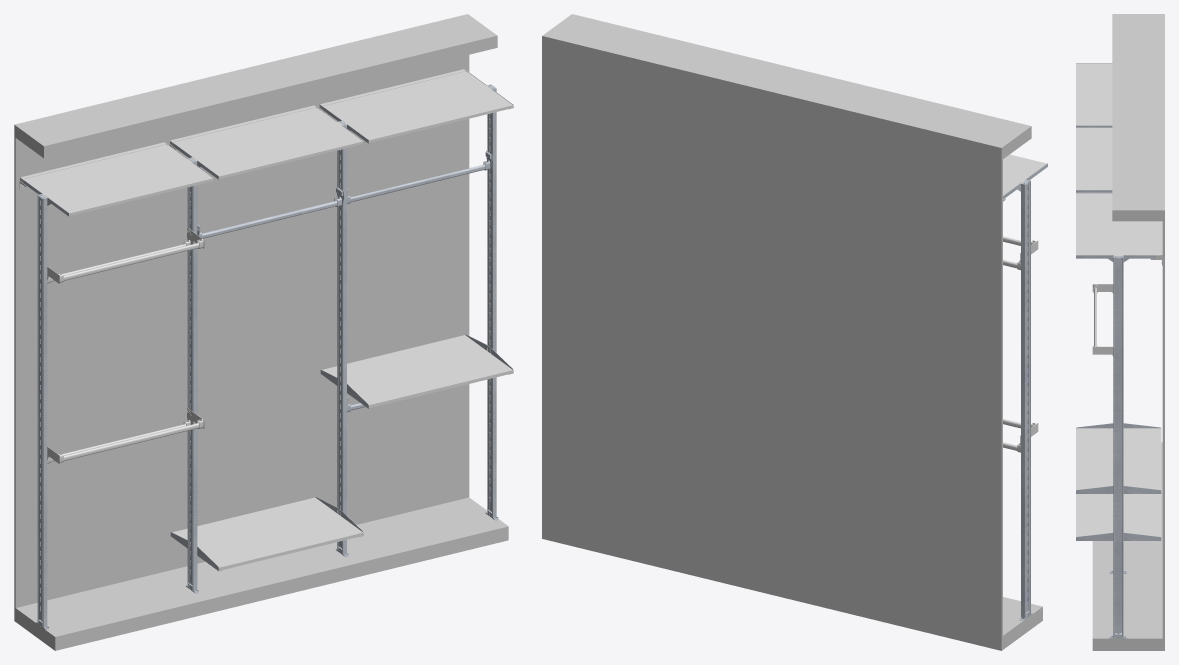
The picture shows the model from 3 angles, left to right: view 1: azimuth 30°, elevation 25°; view 2: azimuth 150°, elevation 25°; view 3: azimuth 270°, elevation 25°; orthographic projection. The views are drawn at different scales.
Visible parts, largest first — view 1: Geom3D (×7), Geom3D_Geom3D_组件#16_Defintion_Geom3D_组件#16, Geom3D_Geom3D_组件#16_Defintion12_Geom3D_组件#16, Geom3D_Geom3D_组件#16_Defintion9_Geom3D_组件#16, Geom3D_Geom3D_组件#15_木层板（中间） copy 001_Defintion_Geom3D_组件#15_, Geom3D_Geom3D_组件#15_木层板（中间） copy 001_Defintion16_Geom3D_组件#1, Geom3D_Geom3D_组件#11_双衣杆 copy 002_Defintion_Geom3D_组件#11_双衣杆  (×2); view 2: Geom3D (×2), Geom3D_Geom3D_组件#16_Defintion_Geom3D_组件#16; view 3: Geom3D (×5), Geom3D_Geom3D_组件#15_木层板（中间） copy 001_Defintion_Geom3D_组件#15_, Geom3D_Geom3D_组件#16_Defintion9_Geom3D_组件#16, Geom3D_Geom3D_组件#15_木层板（中间） copy 001_Defintion16_Geom3D_组件#1, Geom3D_Geom3D_组件#16_Defintion_Geom3D_组件#16, Geom3D_Geom3D_组件#16_Defintion12_Geom3D_组件#16, Geom3D_Geom3D_组件#11_双衣杆 copy 002_Defintion_Geom3D_组件#11_双衣杆 .
Boxes of the visible parts, x1,y1,x2,y2 form: Geom3D (×7): (14, 14, 508, 650); Geom3D_Geom3D_组件#16_Defintion_Geom3D_组件#16: (19, 142, 213, 215); Geom3D_Geom3D_组件#16_Defintion12_Geom3D_组件#16: (169, 105, 363, 179); Geom3D_Geom3D_组件#16_Defintion9_Geom3D_组件#16: (319, 69, 513, 142); Geom3D_Geom3D_组件#15_木层板（中间） copy 001_Defintion_Geom3D_组件#15_: (322, 335, 513, 408); Geom3D_Geom3D_组件#15_木层板（中间） copy 001_Defintion16_Geom3D_组件#1: (172, 497, 363, 570); Geom3D_Geom3D_组件#11_双衣杆 copy 002_Defintion_Geom3D_组件#11_双衣杆  (×2): (47, 227, 204, 464); Geom3D (×2): (542, 14, 1042, 650); Geom3D_Geom3D_组件#16_Defintion_Geom3D_组件#16: (1003, 154, 1046, 201); Geom3D (×5): (1076, 14, 1164, 650); Geom3D_Geom3D_组件#15_木层板（中间） copy 001_Defintion_Geom3D_组件#15_: (1076, 428, 1161, 490); Geom3D_Geom3D_组件#16_Defintion9_Geom3D_组件#16: (1076, 193, 1162, 265); Geom3D_Geom3D_组件#15_木层板（中间） copy 001_Defintion16_Geom3D_组件#1: (1076, 494, 1161, 536); Geom3D_Geom3D_组件#16_Defintion_Geom3D_组件#16: (1076, 63, 1112, 125); Geom3D_Geom3D_组件#16_Defintion12_Geom3D_组件#16: (1076, 127, 1112, 189); Geom3D_Geom3D_组件#11_双衣杆 copy 002_Defintion_Geom3D_组件#11_双衣杆 : (1092, 284, 1113, 356).
Size of the model in its own units: 2.73 by 2.85 by 0.5216.
Materials: 2 (1 with a texture image).
